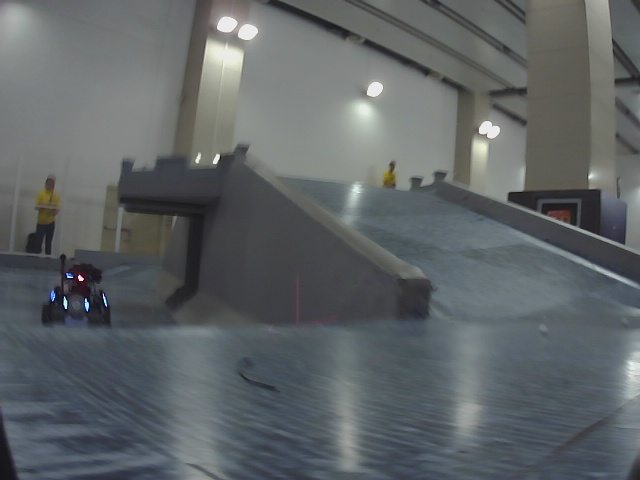lamp: (61, 295, 69, 312), (83, 296, 90, 311)
pair: (63, 296, 89, 312)
